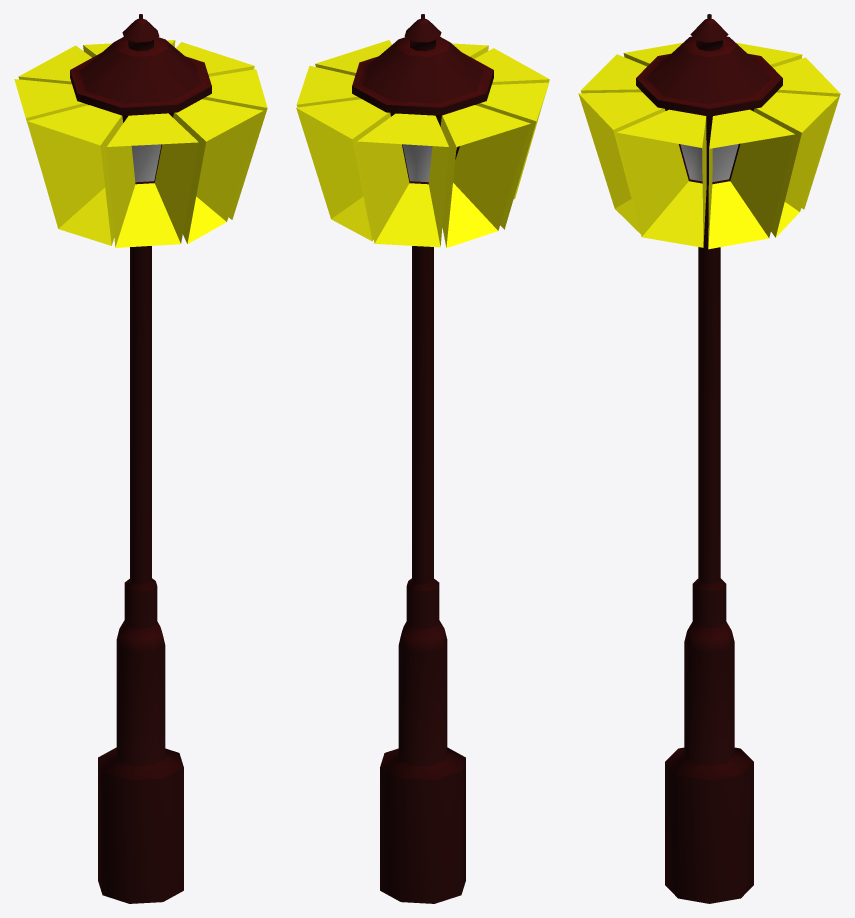
File: OldStreetLamp.glb
The picture shows the model from 3 angles, left to right: view 1: azimuth 30°, elevation 25°; view 2: azimuth 150°, elevation 25°; view 3: azimuth 270°, elevation 25°; orthographic projection.
Parts seen in each view (by area): view 1: OldStreetLamp; view 2: OldStreetLamp; view 3: OldStreetLamp.
Boxes of the visible parts, x1,y1,x2,y2 form: OldStreetLamp: [14, 14, 267, 903]; OldStreetLamp: [296, 14, 549, 903]; OldStreetLamp: [578, 14, 840, 903].
Size of the model in its own units: 8.12 by 29.73 by 8.12.
